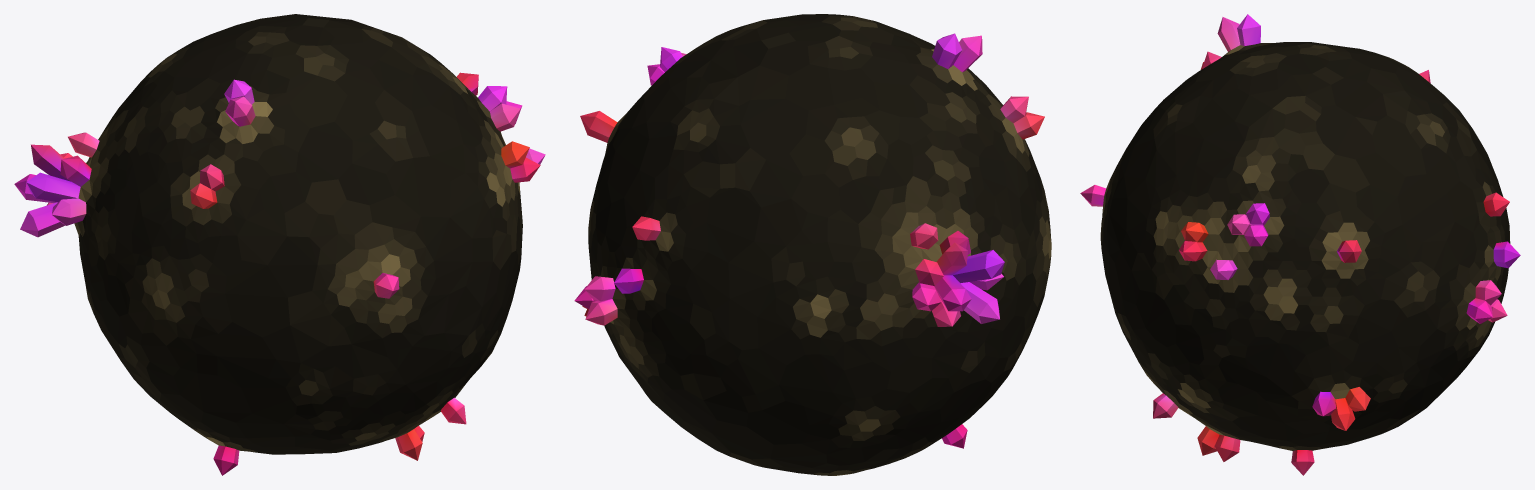
File: Crystal_planet_2.fbx
3 views of the same model, side by side, from view 1: azimuth 30°, elevation 25°; view 2: azimuth 150°, elevation 25°; view 3: azimuth 270°, elevation 25° (orthographic). The views are drawn at different scales.
Parts seen in each view (by area): view 1: file6; view 2: file6; view 3: file6.
Part boxes in pixels (bbox=[...]): file6: bbox=[14, 14, 545, 475]; file6: bbox=[574, 14, 1051, 475]; file6: bbox=[1080, 14, 1520, 475].
Size of the model in its own units: 2.24 by 2.01 by 2.16.
